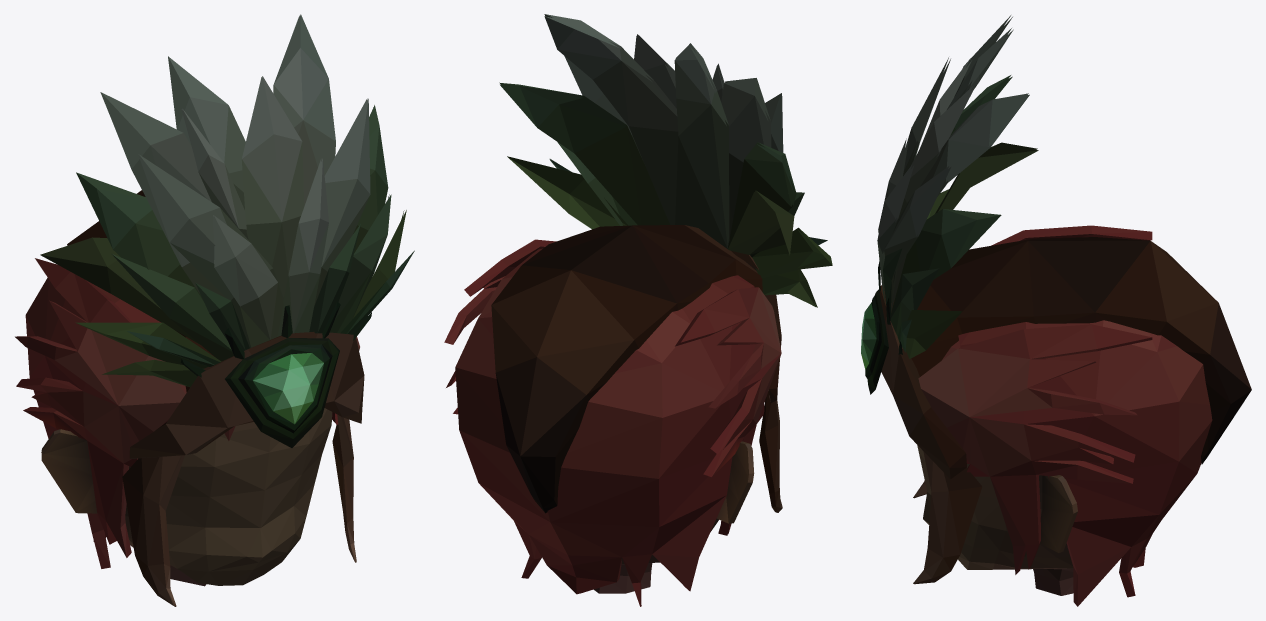
File: helm_darkskin_spike_red_headress.fbx
3 renders of one model, left to right at view 1: azimuth 30°, elevation 25°; view 2: azimuth 150°, elevation 25°; view 3: azimuth 270°, elevation 25°, orthographic. The views are drawn at different scales.
Visible parts, largest first — view 1: helm_darkskin_spike_red_headress; view 2: helm_darkskin_spike_red_headress; view 3: helm_darkskin_spike_red_headress.
Boxes of the visible parts, left/top/right/bottom form: helm_darkskin_spike_red_headress: left=15, top=14, right=414, bottom=606; helm_darkskin_spike_red_headress: left=444, top=14, right=832, bottom=606; helm_darkskin_spike_red_headress: left=861, top=15, right=1251, bottom=606.
Bounding box in the file's own units: 1.29 × 2.05 × 1.35.
